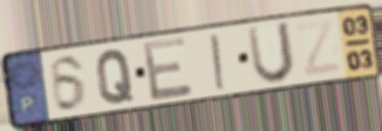6: (47, 54, 91, 113)
E: (140, 34, 196, 105)
I: (207, 31, 229, 93)
Q: (94, 48, 136, 107)
U: (244, 18, 298, 87)
Z: (292, 16, 345, 79)
